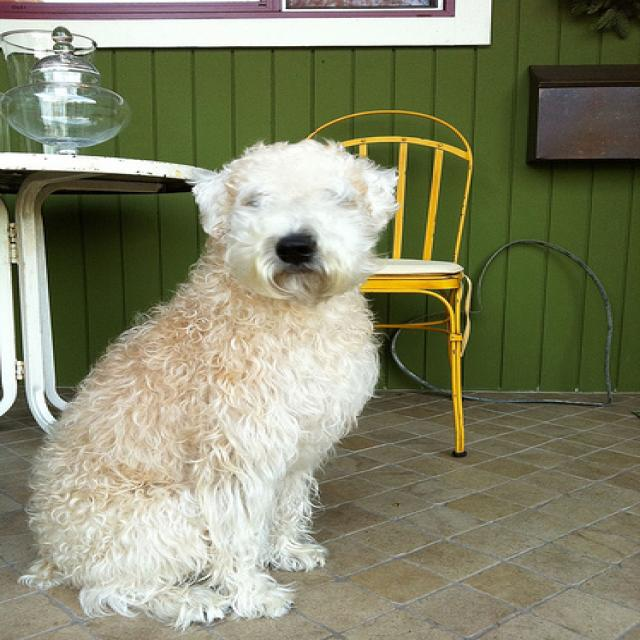dog-wheaten_terrier: (2, 131, 412, 635)
